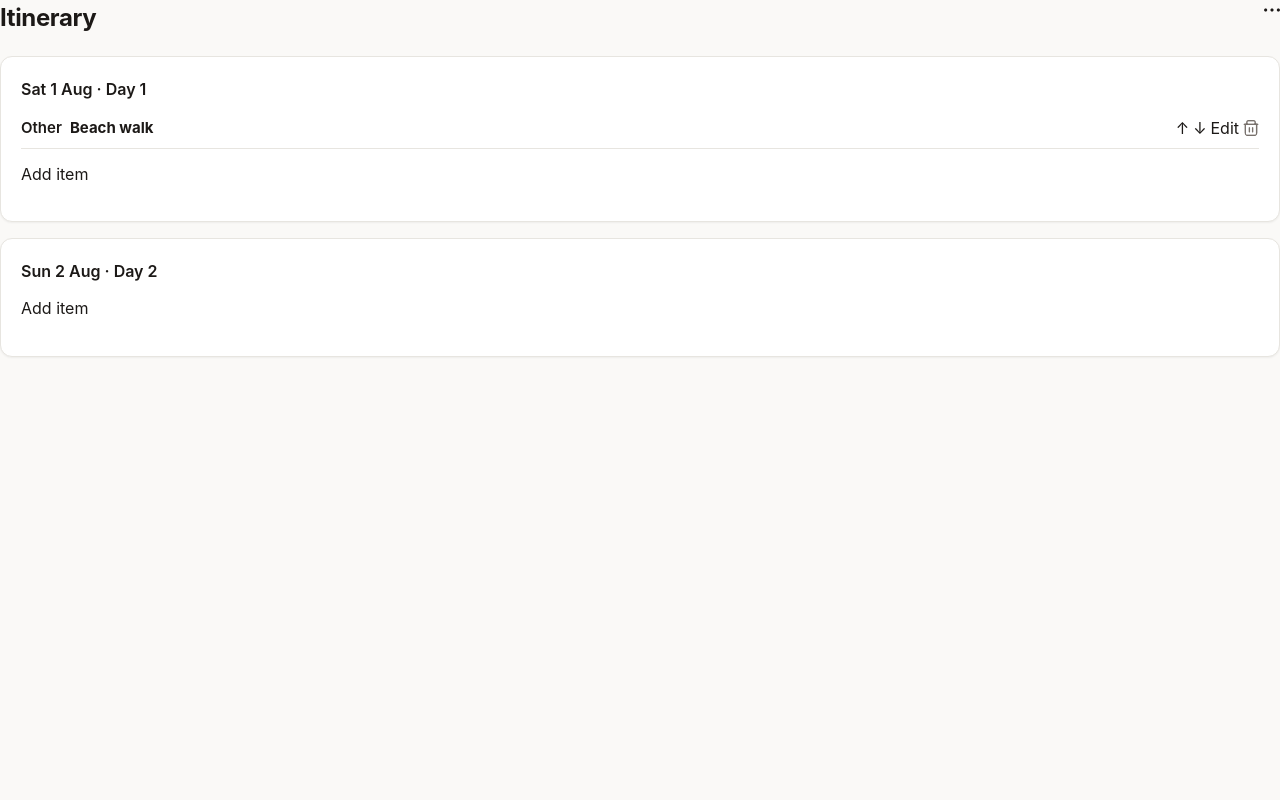
TripItineraryView › keeps only one inline item form open page-wide: opening Add on another day closes Edit
Click the button "Edit": (1225, 128) [1210,118,1239,138]
(page scrolled)
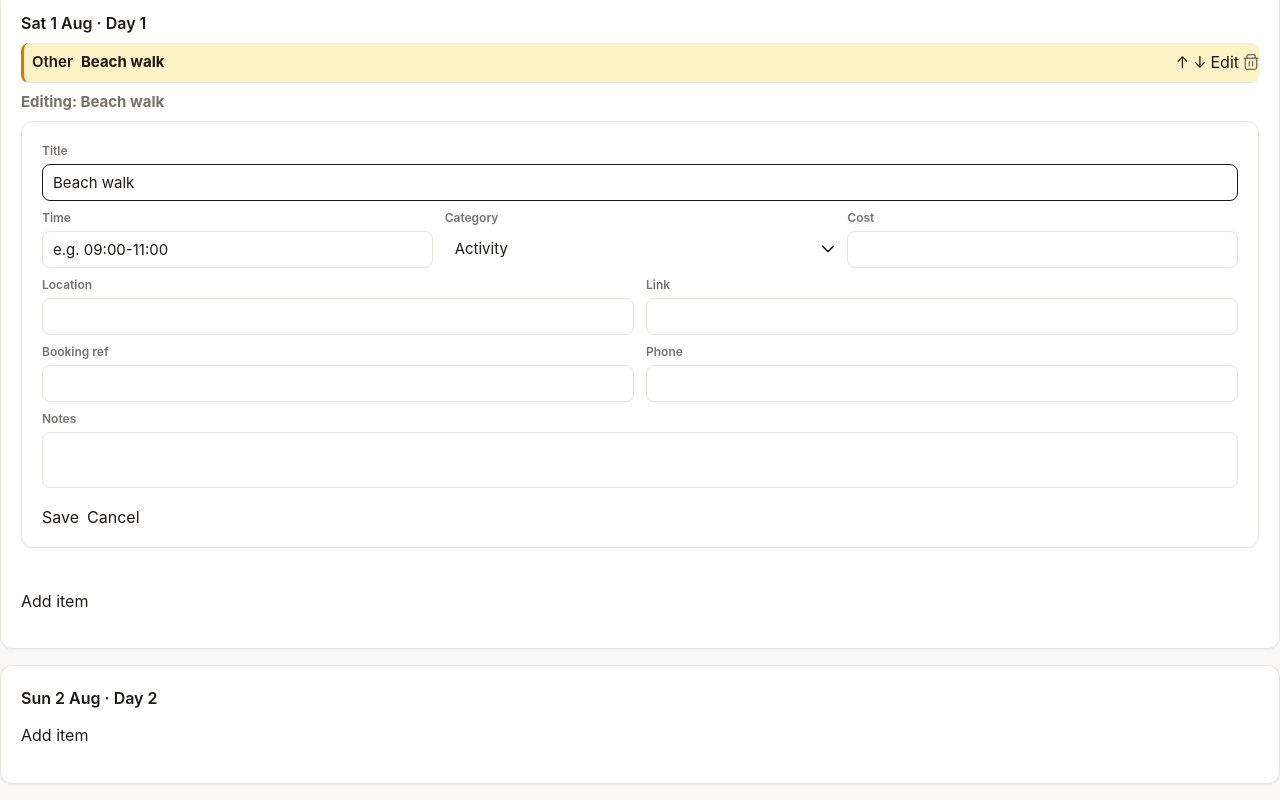
Check: the text "Editing: Beach walk" is shown, box [21,92,164,110]
Click the button "Add item" below "Sun 2 Aug · Day 2": (55, 735) [21,725,88,745]
(page scrolled)
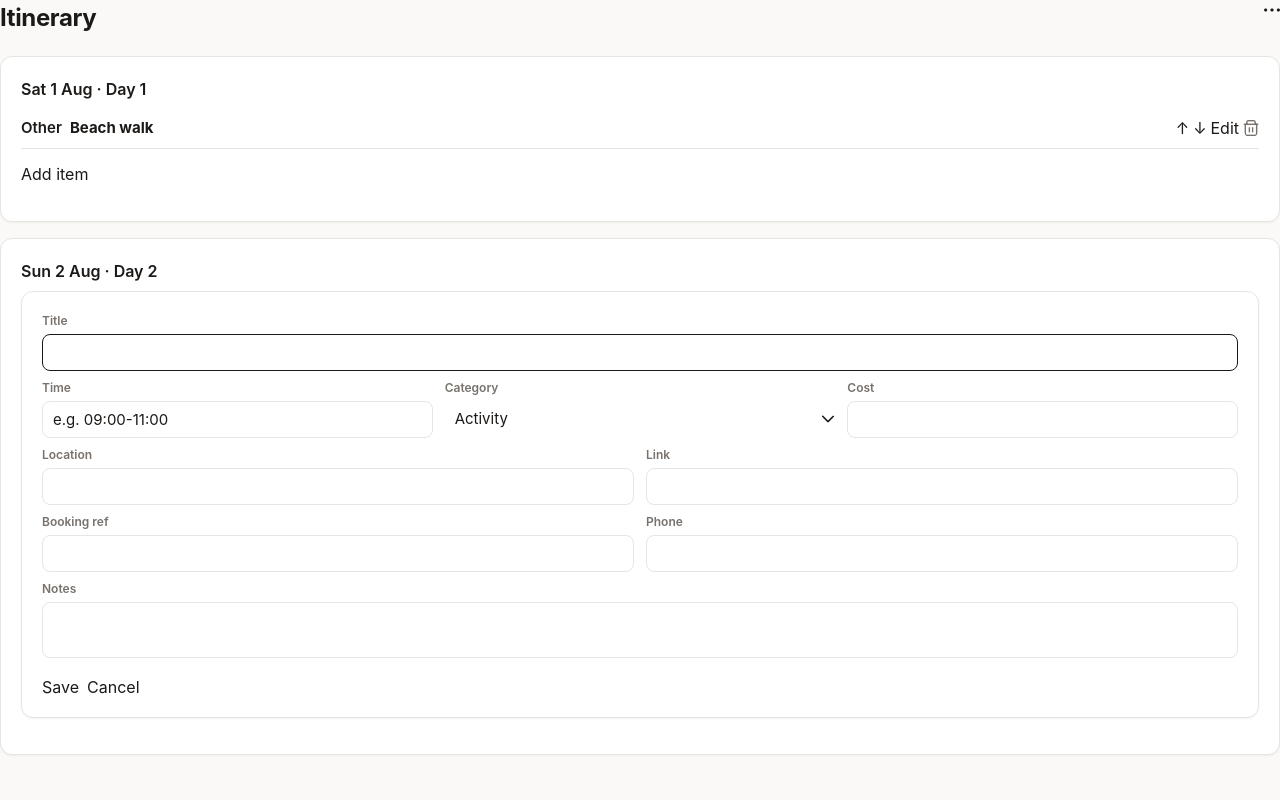
Check: the text "Editing:" is gone
